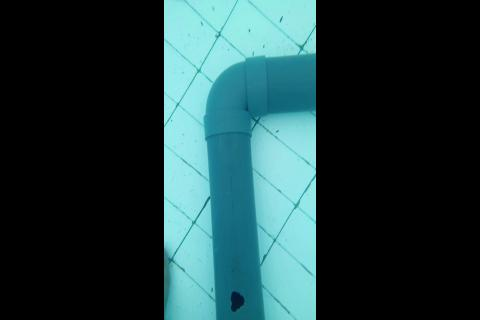kebocoran: (229, 289, 245, 314)
